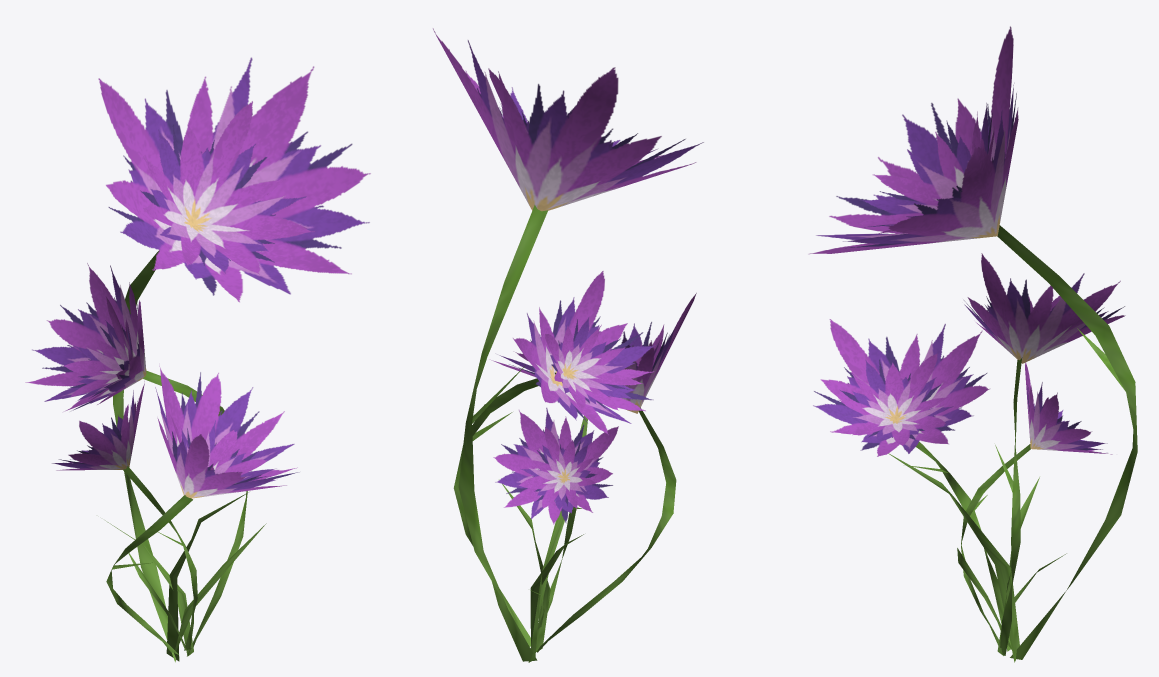
Rendered from Plant_2.glb.
3 views of the same model, side by side, from view 1: azimuth 30°, elevation 25°; view 2: azimuth 150°, elevation 25°; view 3: azimuth 270°, elevation 25° (orthographic). The views are drawn at different scales.
Parts seen in each view (by area): view 1: Plant_2; view 2: Plant_2; view 3: Plant_2.
Boxes of the visible parts, x1,y1,x2,y2 form: Plant_2: (25,57,370,662); Plant_2: (433,28,703,662); Plant_2: (808,26,1137,662).
Size of the model in its own units: 0.7578 by 1.56 by 0.8296.
1 material, 1 textured.
